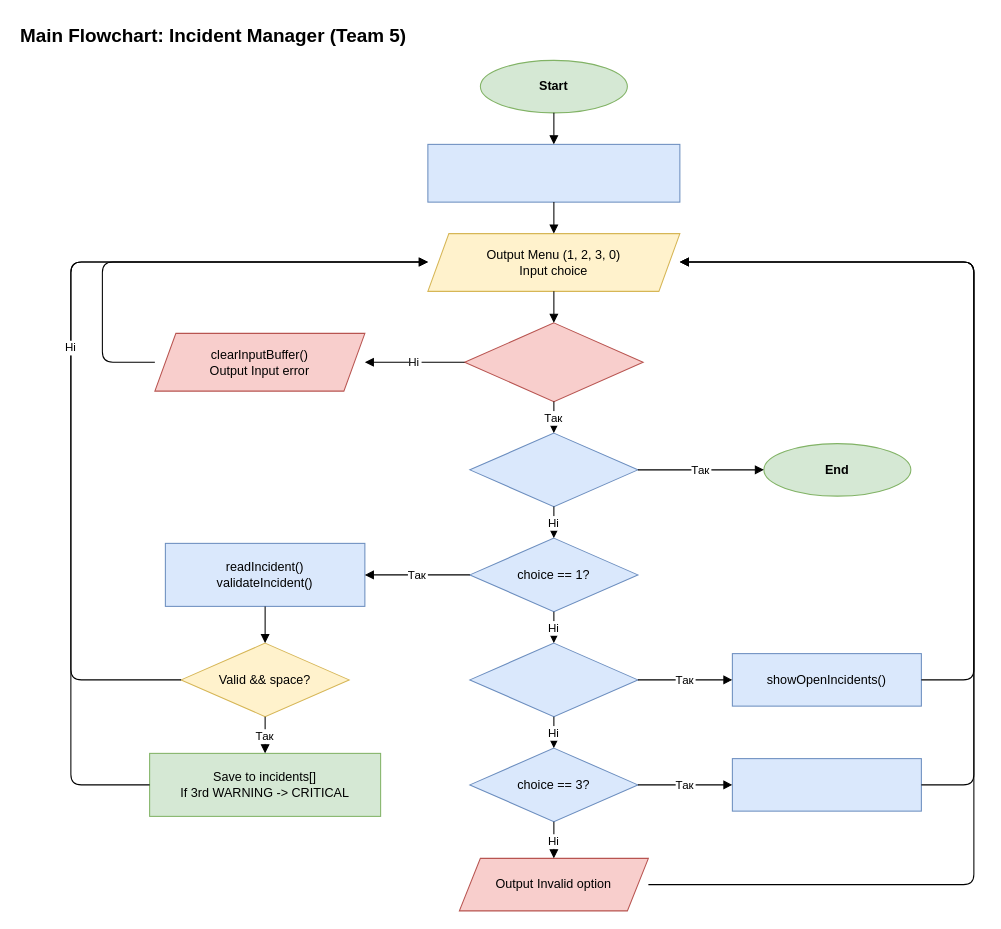
The diagram is 1001 pixels wide and 929 high, and some of its shapes have lost their labels. The centre of each missing label's shape, as x and y in pixels:
choice == 0?: [553,469]
choice == 2?: [553,679]
closeIncidentById(): [826,784]
Incident incidents[MAX_INCIDENTS] incidentCount = 0: [553,172]
Is input numeric?: [553,362]
